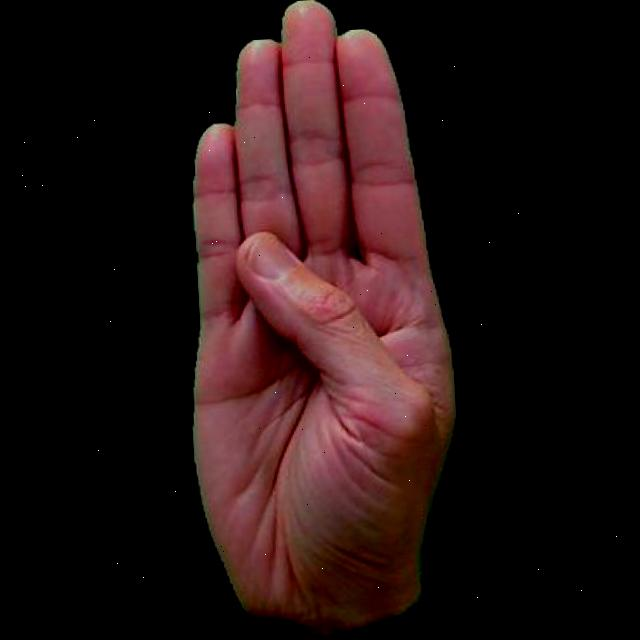b: (159, 0, 475, 640)
